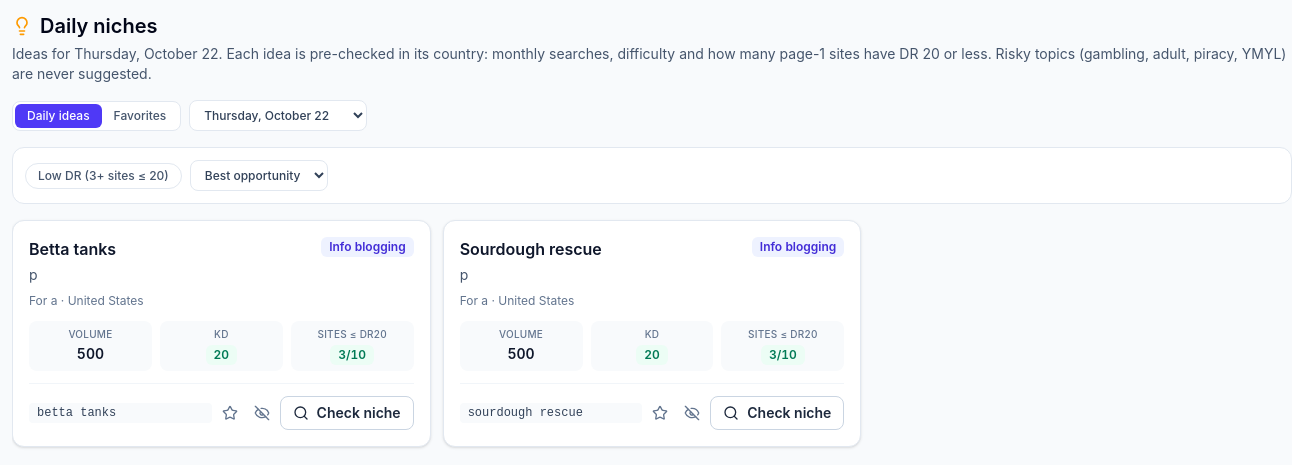
Test case: daily niche reactions › stars and dismisses ideas, saving each change for the user
Expected: the text "Betta tanks" is shown, [29,237,116,261]
Click the button named "Add “Betta tanks” to favorites".
click(230, 413)  # box [216,399,244,427]
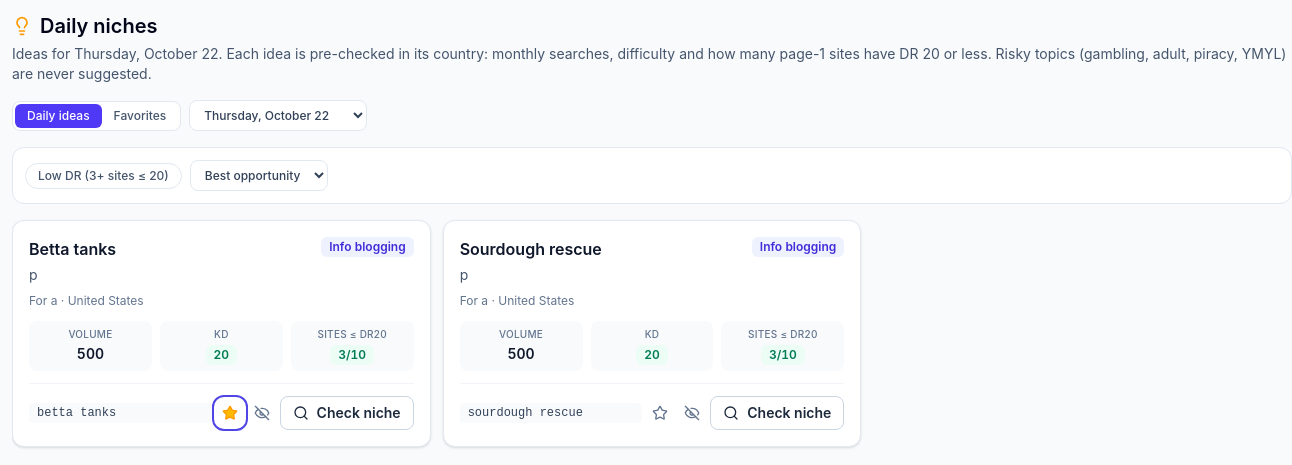
Expected: the button named "Remove “Betta tanks” from favorites" is pressed, [216,399,244,427]
Click the button named "Dismiss “Sourdough rescue”".
click(692, 413)  # box [678,399,706,427]
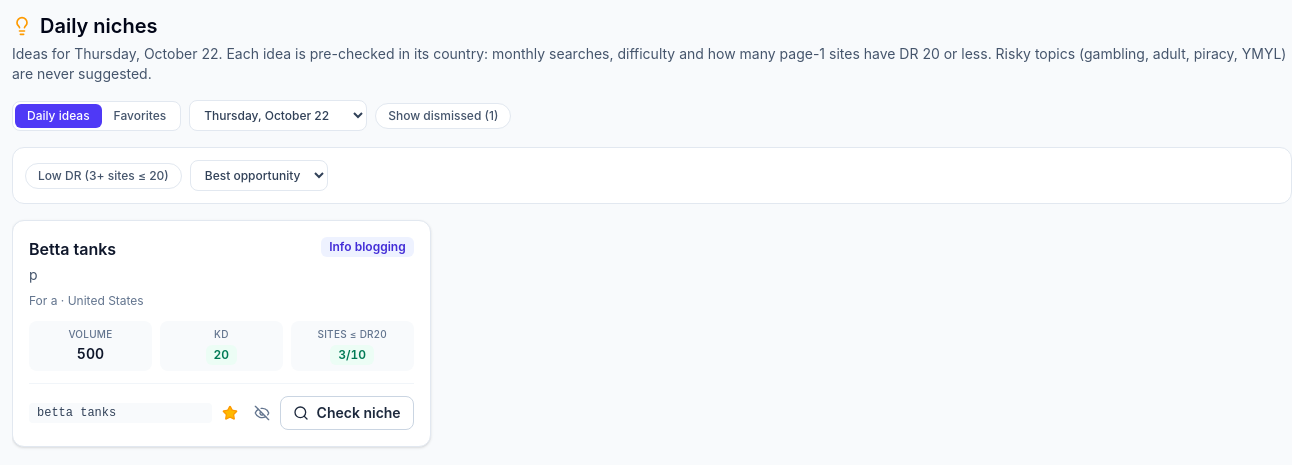
Expected: the text "Sourdough rescue" is gone
Click the button "Show dismissed (1)".
click(443, 116)  # box [375,102,511,128]
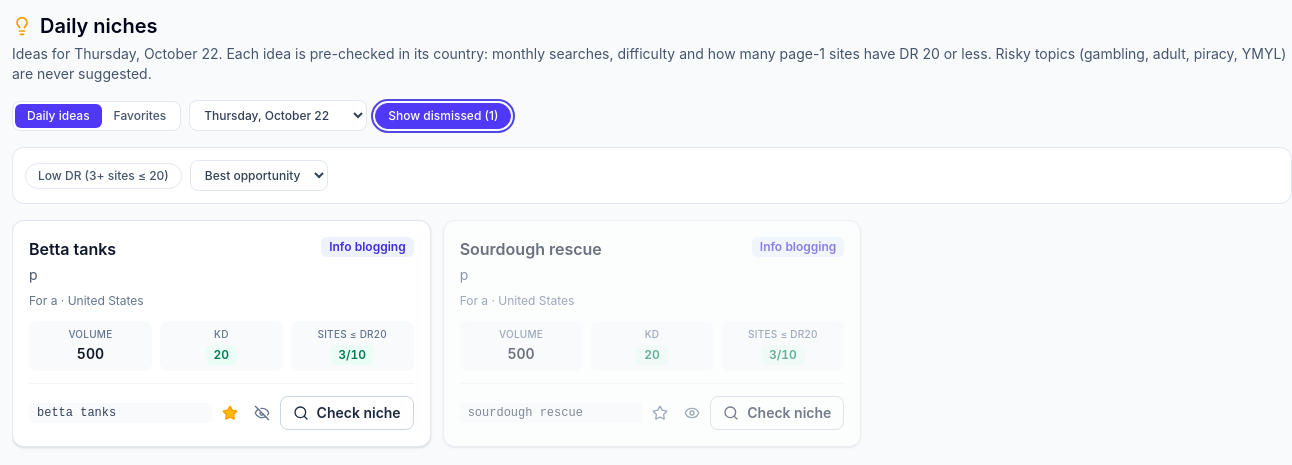
Expected: the text "Sourdough rescue" is shown, [460,237,602,261]
Click the button named "Restore “Sourdough rescue”".
click(692, 413)  # box [678,399,706,427]
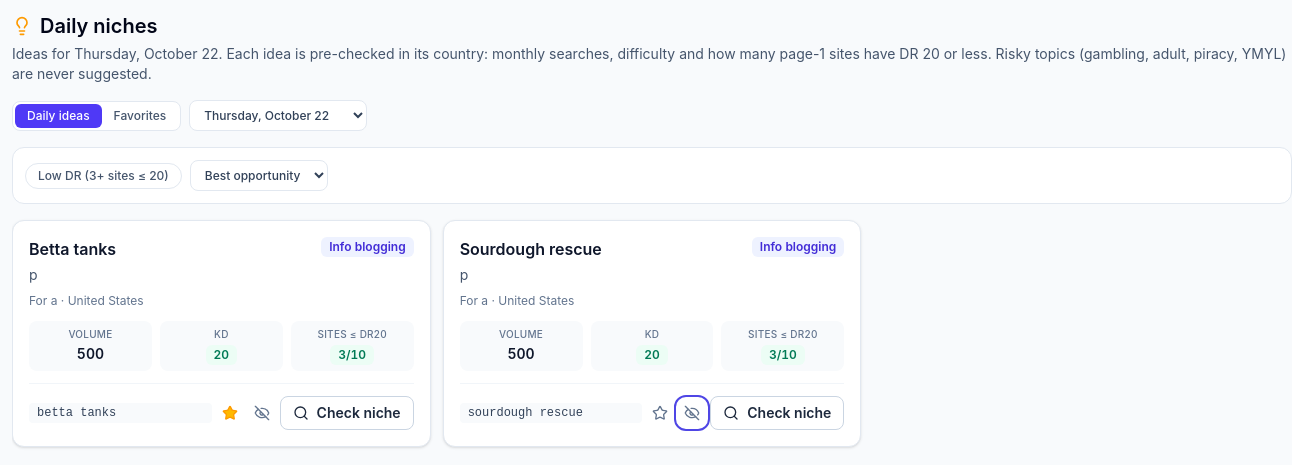
Expected: the button "Show dismissed" is gone
